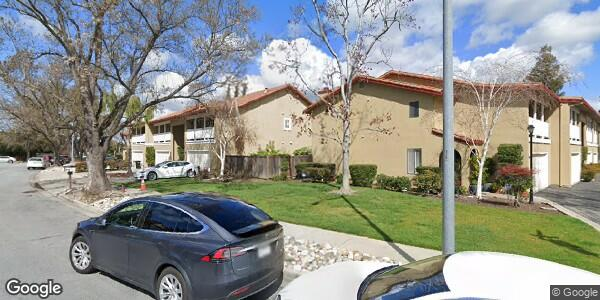Steel_Pole: (439, 1, 459, 252)
